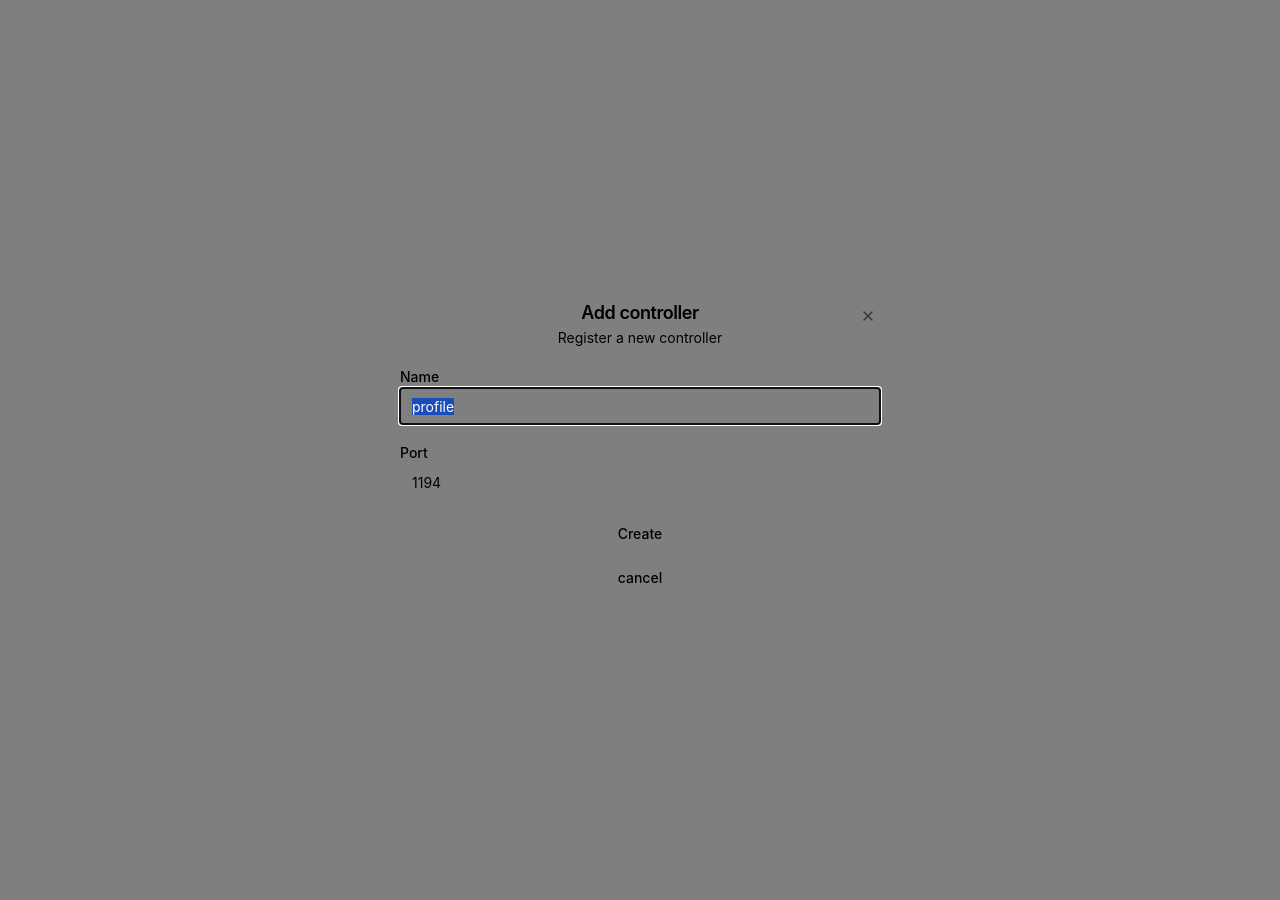
Test: FormDialog › shows the standardized backend conflict message instead of the HTTP wrapper
Click the button "Create": (640,534) left=400, top=516, right=880, bottom=552
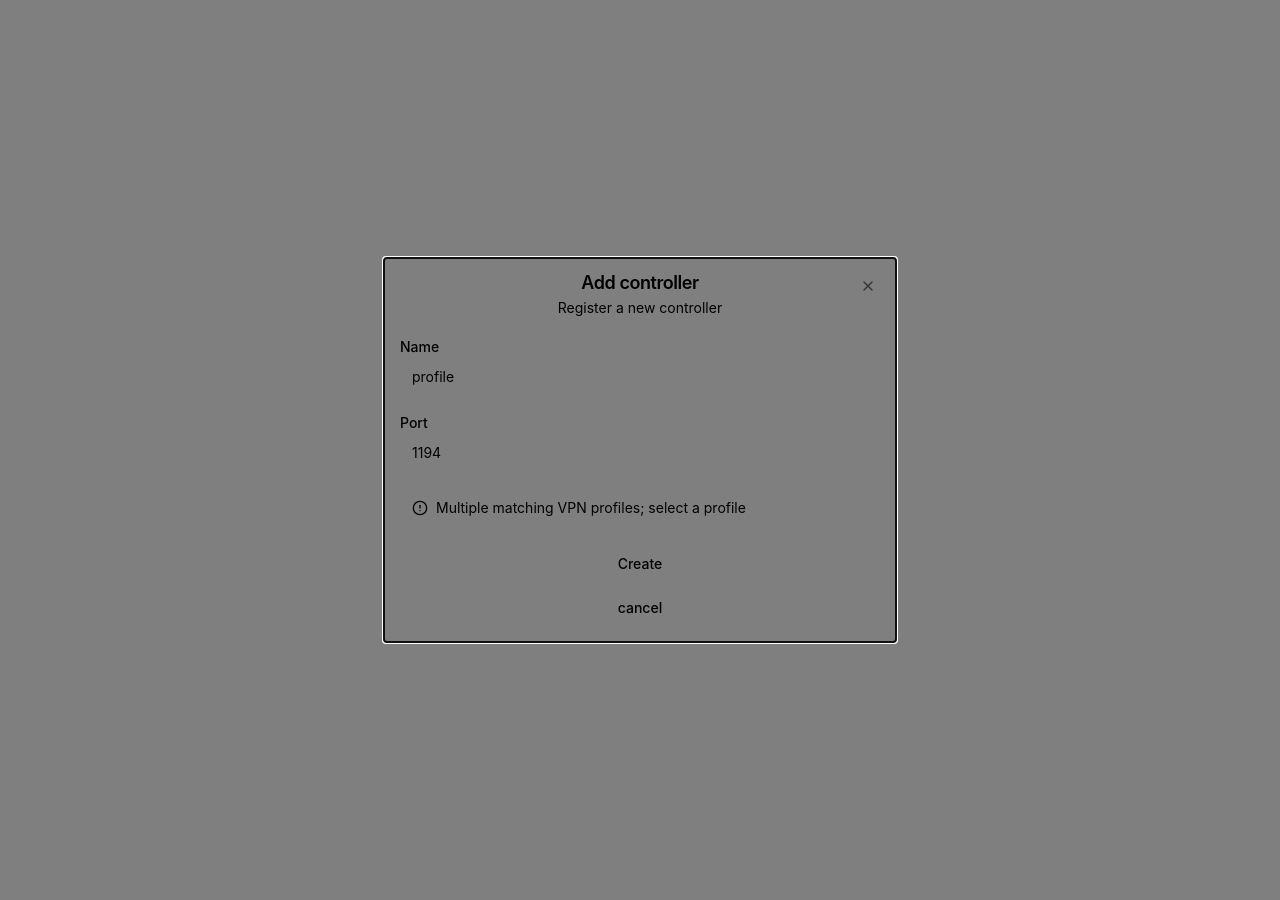
Check: the text "Multiple matching VPN profiles; select a profile" is shown, box left=436, top=498, right=746, bottom=518
